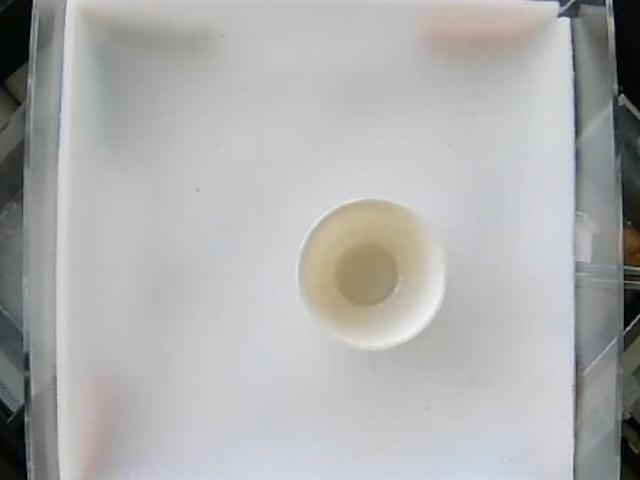Cup: (296, 198, 443, 349)
